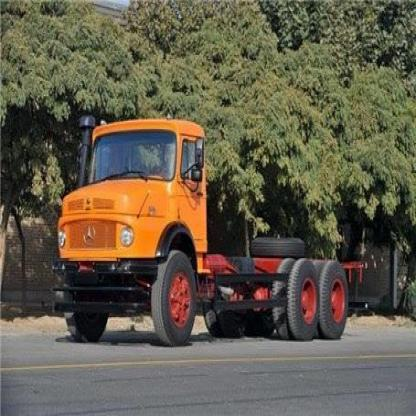Truck: (58, 103, 361, 350)
